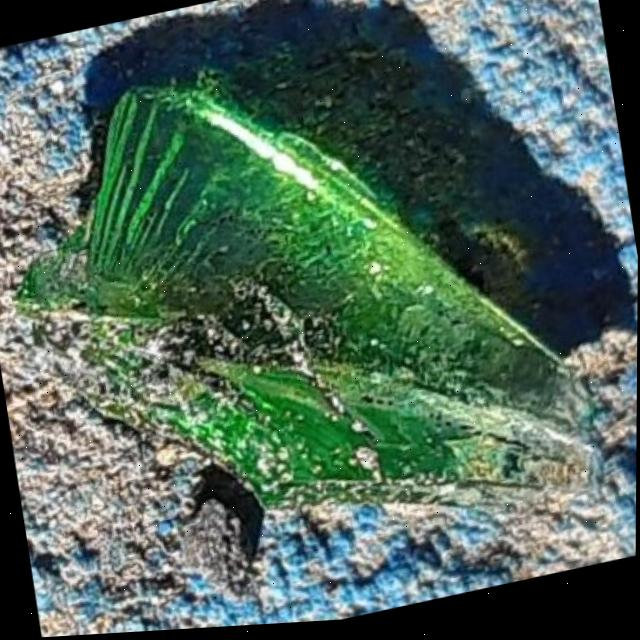Dry: (0, 8, 597, 579)
